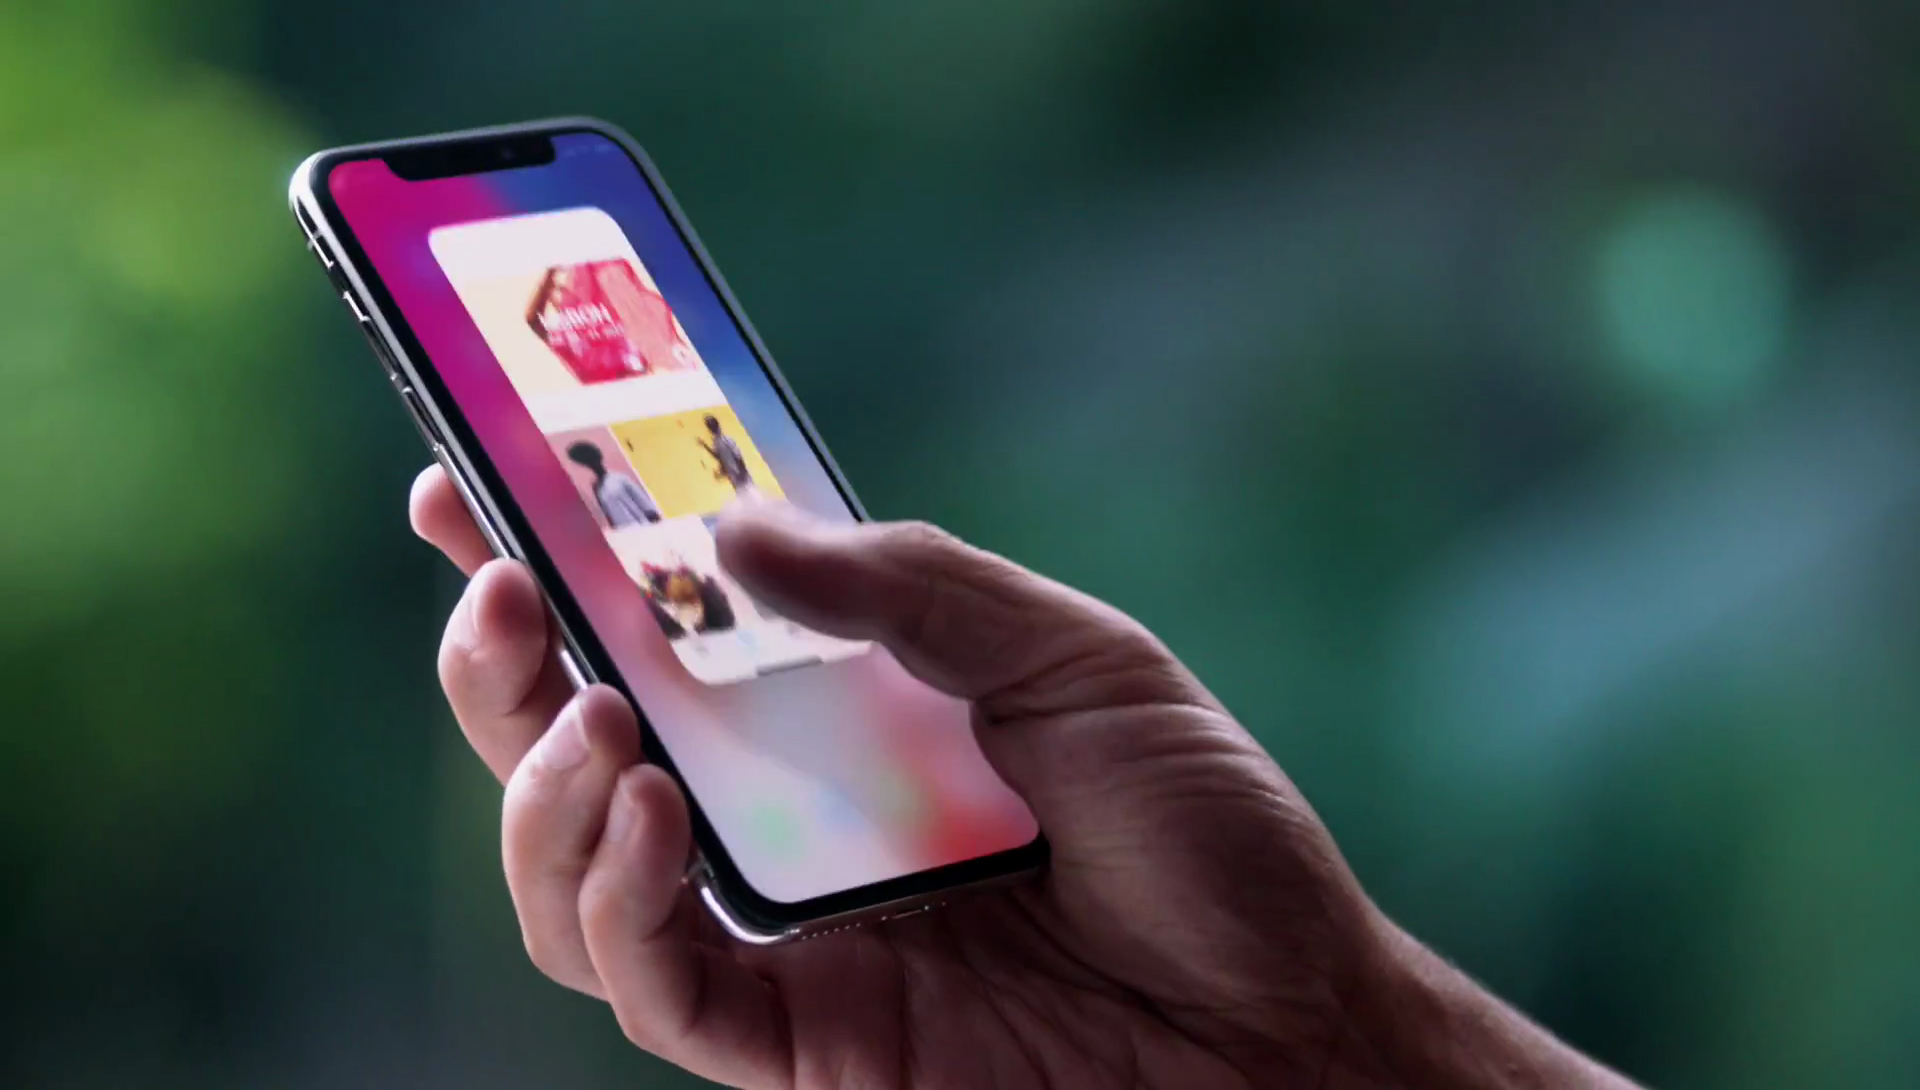smartphone: (286, 113, 1058, 948)
